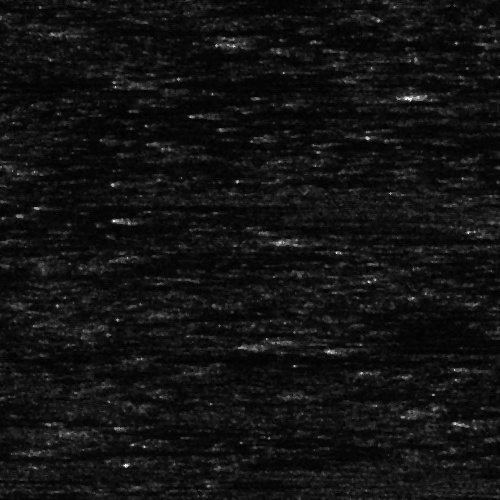object: (30, 420, 155, 439), (192, 35, 285, 48), (23, 25, 96, 38), (235, 235, 340, 244), (95, 251, 188, 260), (301, 343, 394, 350), (126, 350, 179, 361), (0, 448, 69, 455), (413, 91, 466, 98), (185, 109, 238, 116), (120, 212, 173, 219), (239, 226, 292, 231), (23, 203, 76, 208), (0, 493, 25, 500)
shadow: (0, 350, 379, 363), (93, 420, 268, 439), (60, 25, 304, 38), (153, 350, 420, 361), (239, 35, 410, 48), (288, 235, 467, 244), (142, 251, 317, 260), (0, 493, 216, 500), (49, 203, 305, 208), (212, 109, 387, 116), (33, 448, 206, 455), (266, 226, 445, 231), (0, 414, 94, 421), (348, 343, 440, 350), (147, 212, 234, 219), (439, 91, 500, 98), (0, 269, 25, 280)
